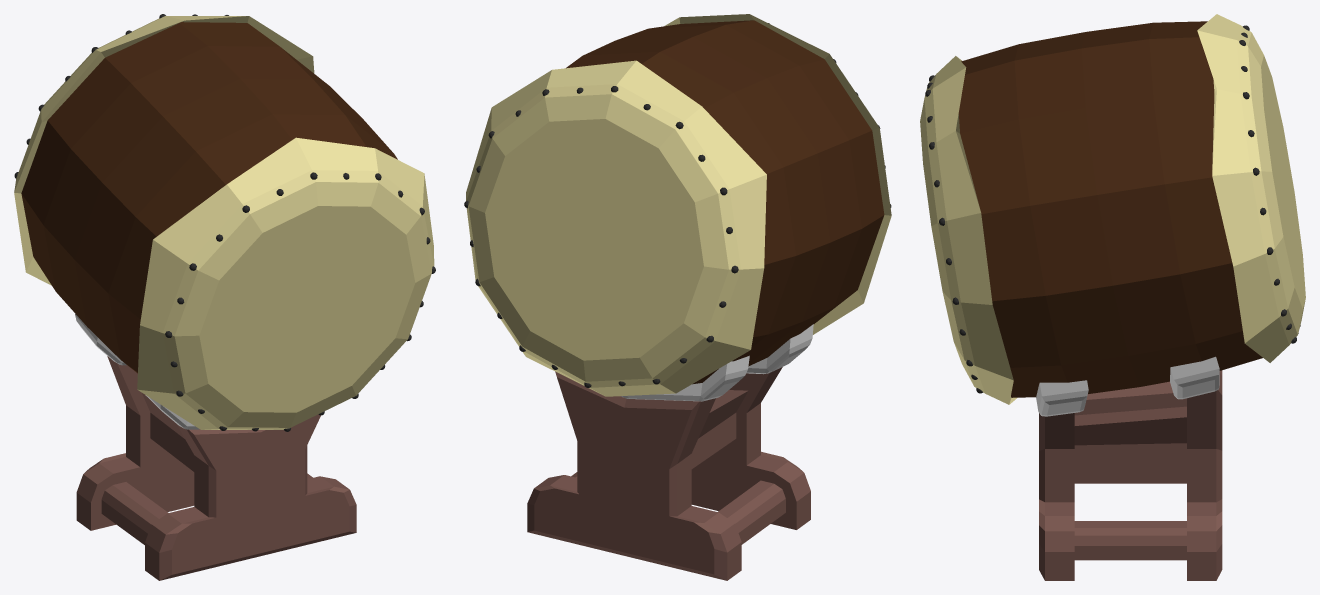
The model's file is Drum.fbx.
3 renders of one model, left to right at view 1: azimuth 30°, elevation 25°; view 2: azimuth 150°, elevation 25°; view 3: azimuth 270°, elevation 25°, orthographic. The views are drawn at different scales.
Visible parts, largest first — view 1: Drum, Drum Stand; view 2: Drum, Drum Stand; view 3: Drum, Drum Stand.
Part boxes in pixels (bbox=[...]): Drum: bbox=[14, 14, 435, 431]; Drum Stand: bbox=[75, 314, 356, 580]; Drum: bbox=[464, 14, 891, 396]; Drum Stand: bbox=[527, 324, 813, 580]; Drum: bbox=[920, 14, 1305, 404]; Drum Stand: bbox=[1036, 356, 1222, 580].
Bounding box in the file's own units: 611 × 934 × 653.
